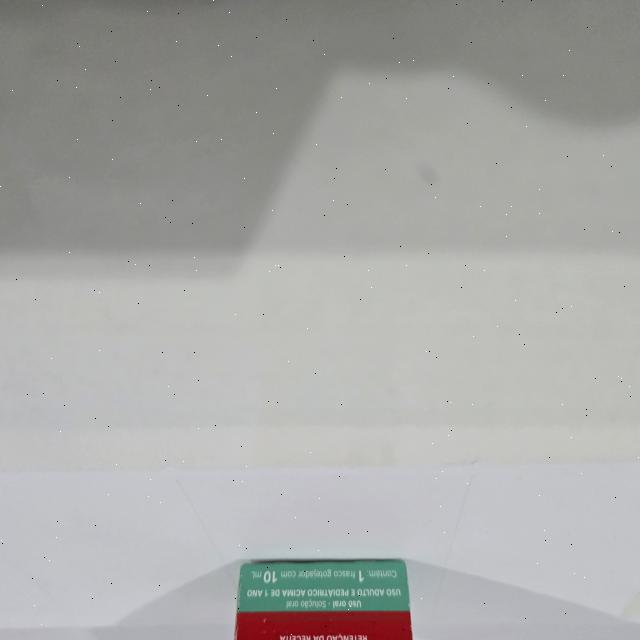tramadol: (232, 559, 416, 640)
